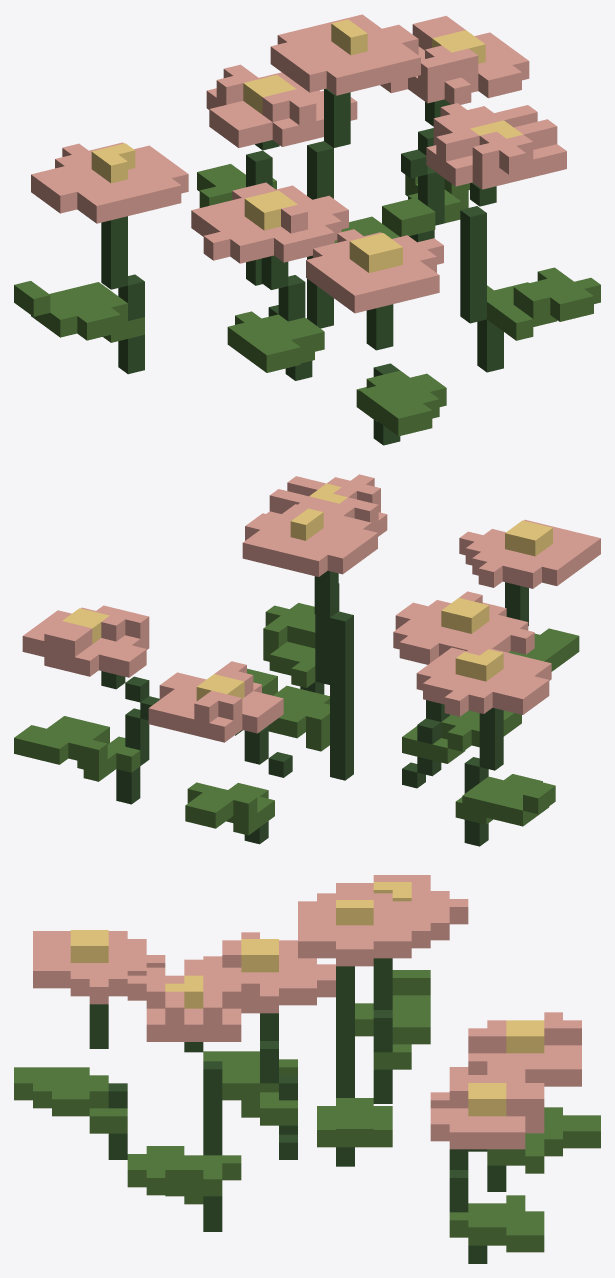
The model's file is flower_cluster_v2_species1_mid.glb.
3 renders of one model, top to bottom at view 1: azimuth 30°, elevation 25°; view 2: azimuth 150°, elevation 25°; view 3: azimuth 270°, elevation 25°, orthographic. The views are drawn at different scales.
Parts seen in each view (by area): view 1: flower_cluster_v2_species1_mid; view 2: flower_cluster_v2_species1_mid; view 3: flower_cluster_v2_species1_mid.
Boxes of the visible parts, left/top/right/bottom form: flower_cluster_v2_species1_mid: left=14, top=14, right=600, bottom=445; flower_cluster_v2_species1_mid: left=14, top=474, right=600, bottom=846; flower_cluster_v2_species1_mid: left=14, top=875, right=600, bottom=1263.
Size of the model in its own units: 1.94 by 1.06 by 1.94.
1 material, 1 textured.
